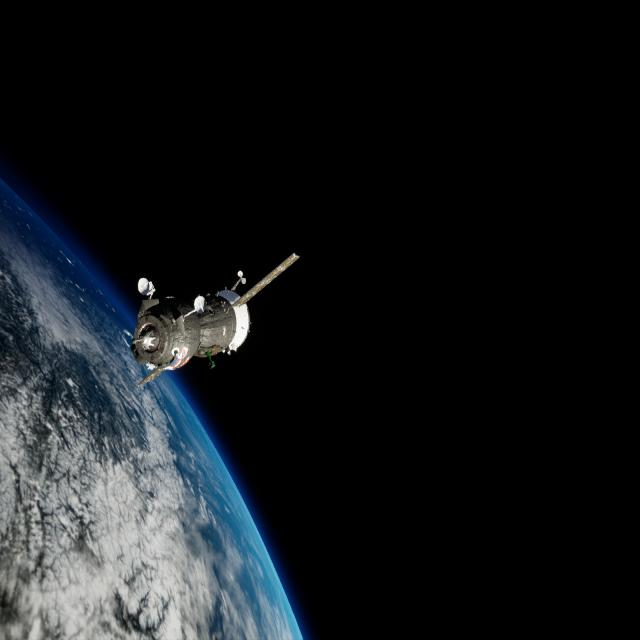Satellites revolving around earth: (1, 175, 305, 638), (127, 247, 302, 391)
